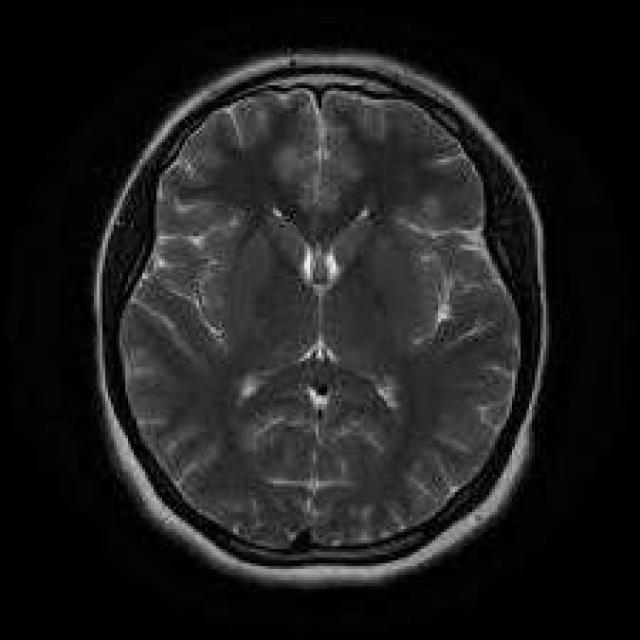No_Tumor: (94, 52, 548, 583)
